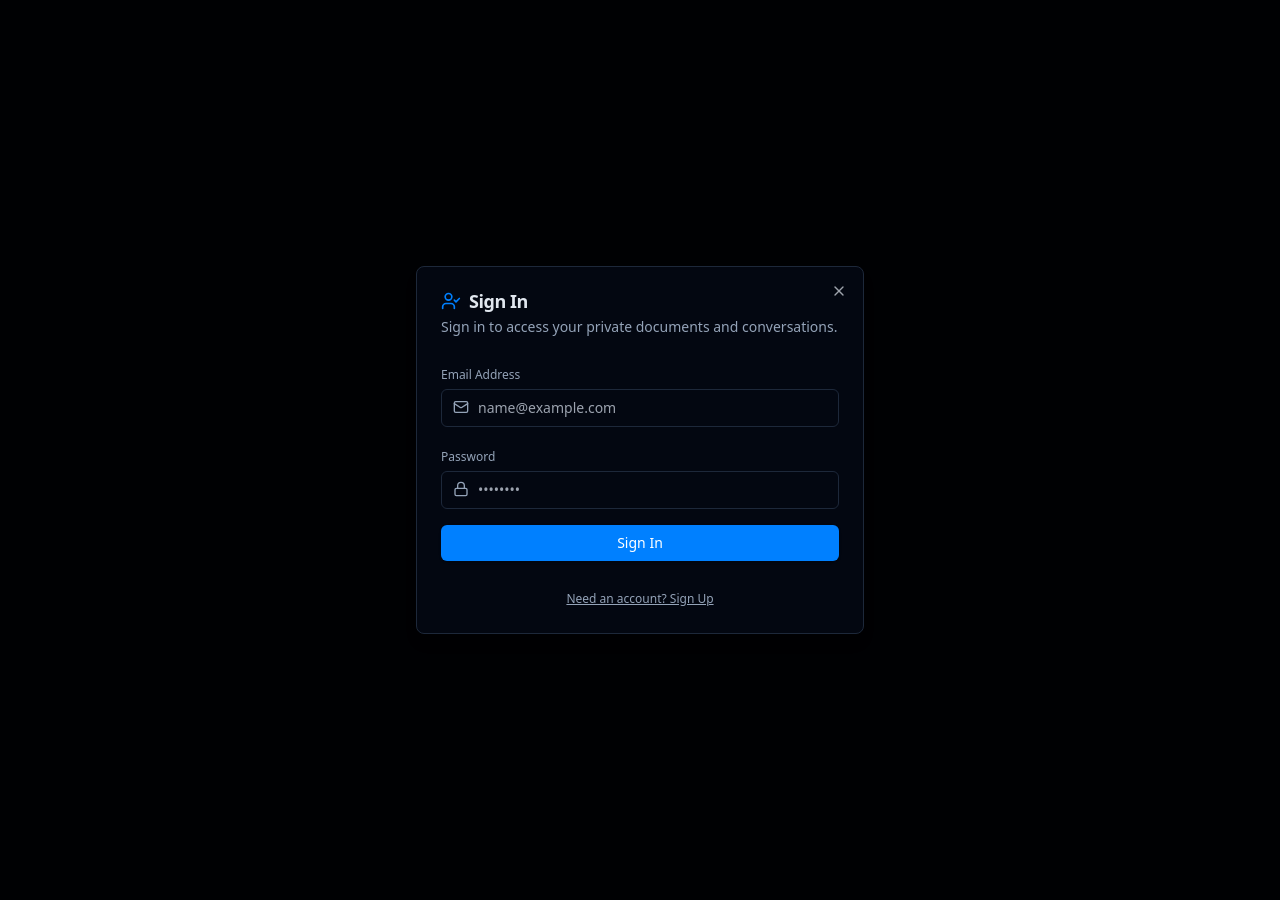
Test: AuthModal › displays error message when login fails
Type "bad@example.com" into the field labelled "Email Address". click: (640, 408)
box: [441,389,839,427]
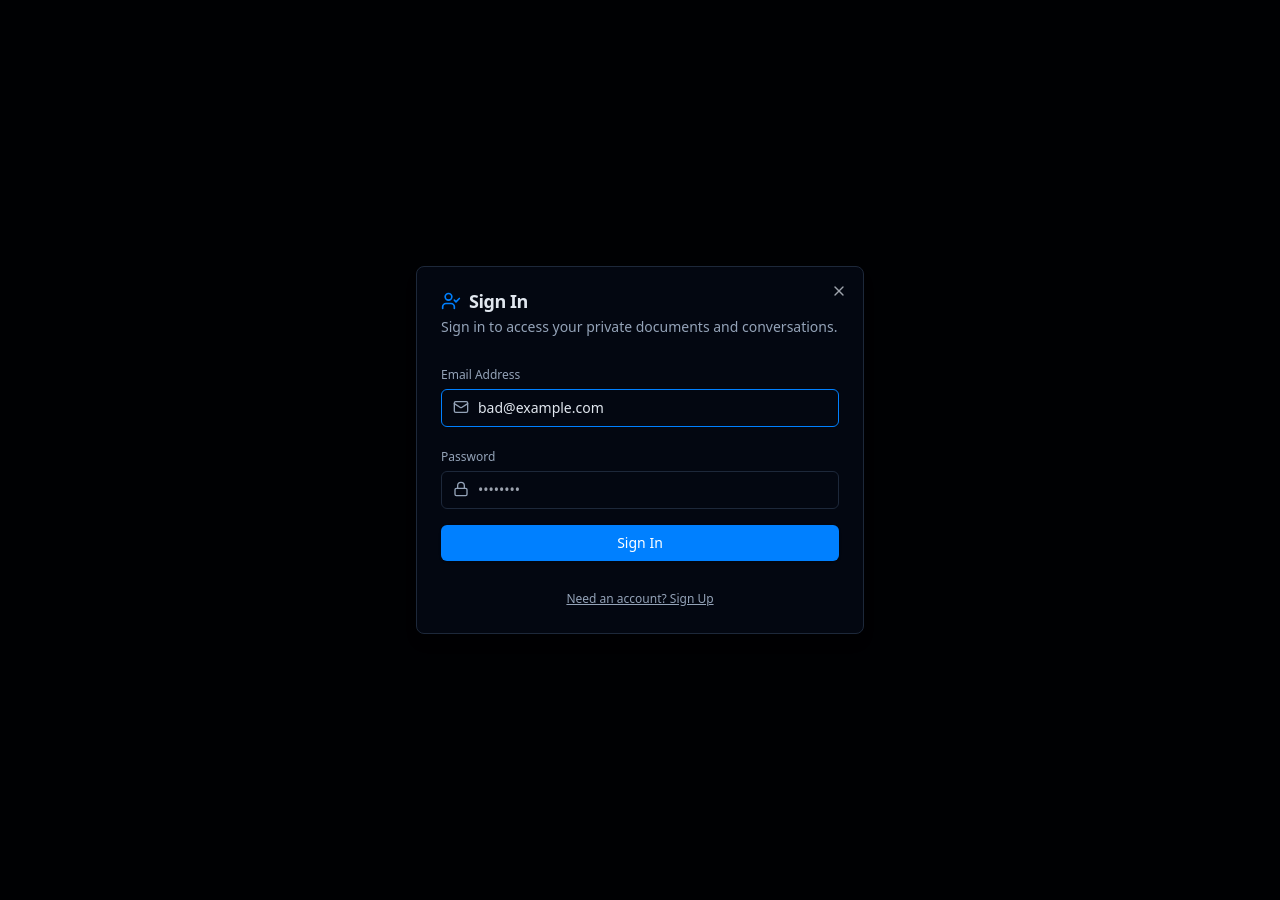
Type "wrongpass" into the password field labelled "Password". click: (640, 490)
box: [441,471,839,509]
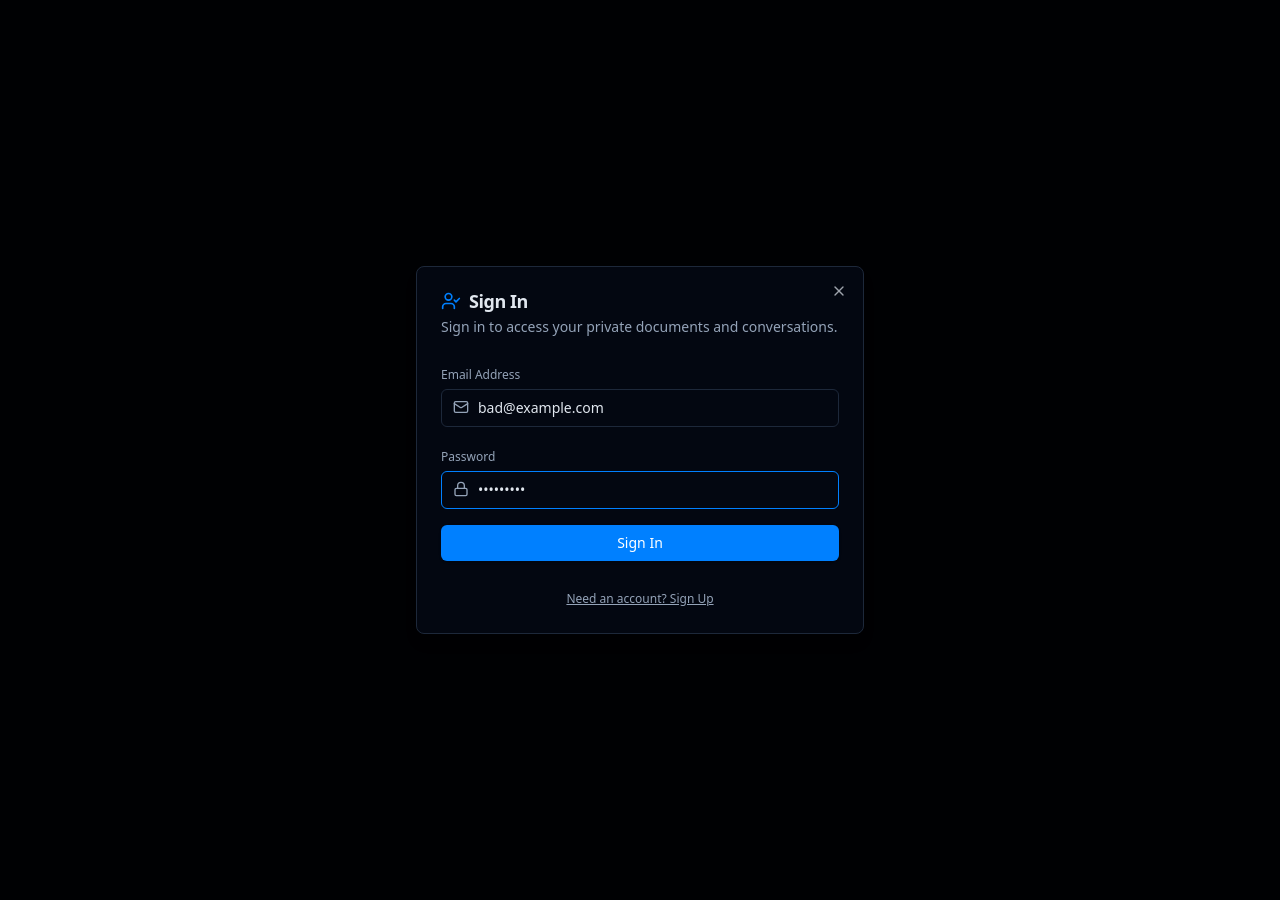
Click the button "Sign In". click: (640, 543)
box: [441,525,839,561]
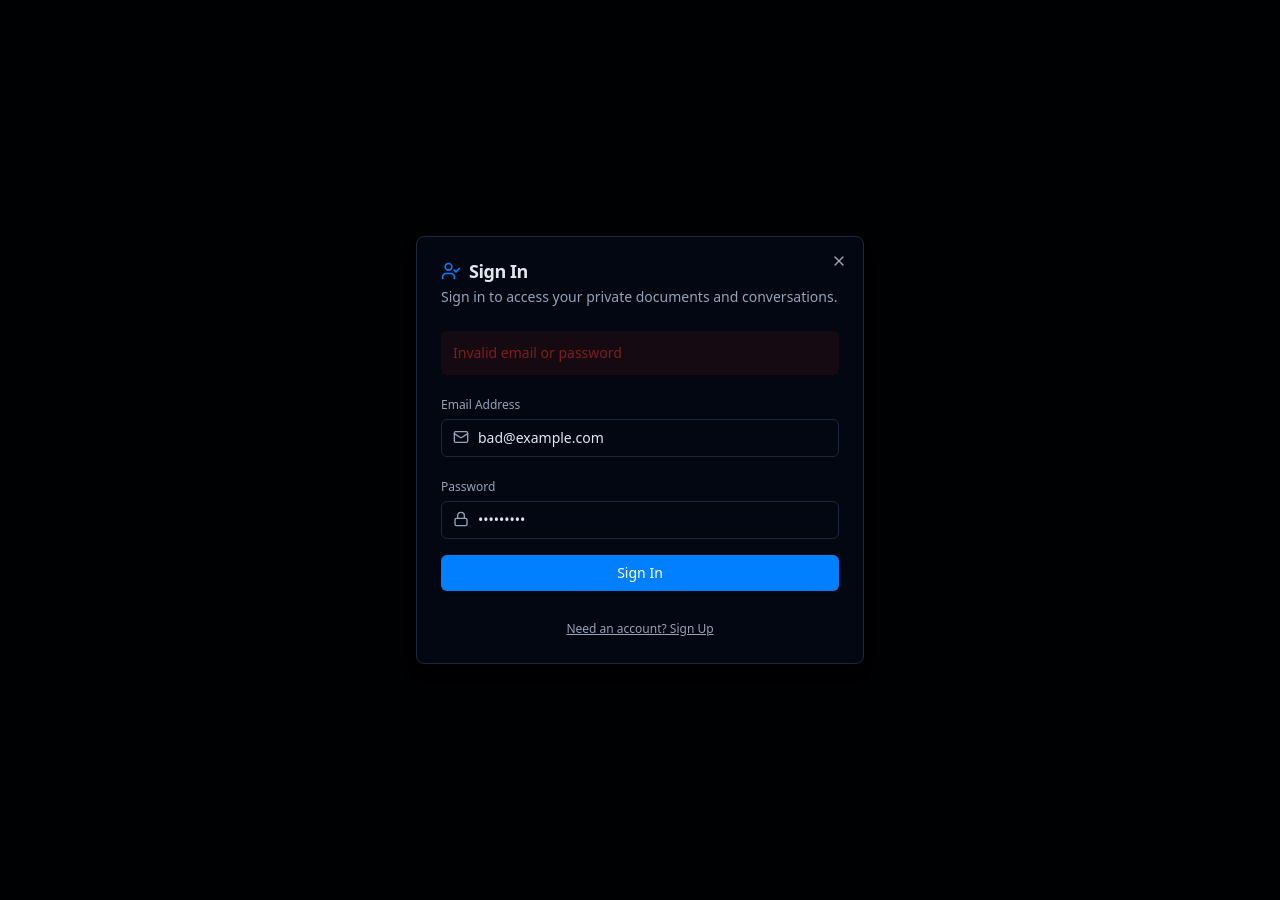
Result: the message reads "Invalid email or password" at [453,343,622,362]
